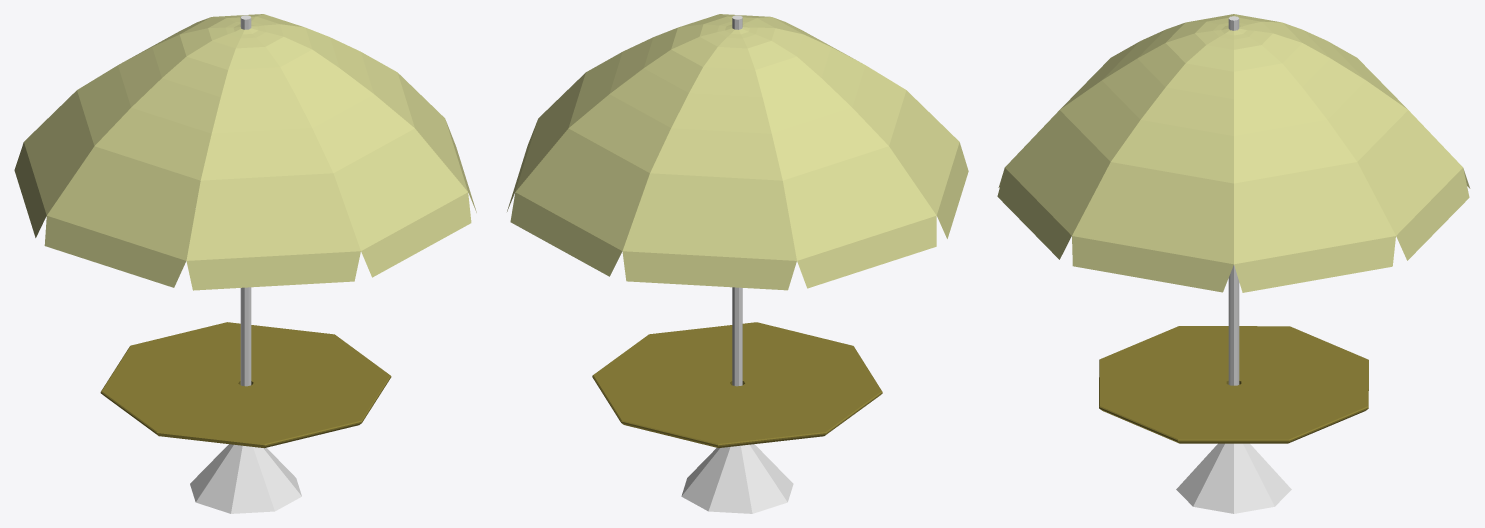
Rendered from UMBRELLA_NEW.fbx.
3 views of the same model, side by side, from view 1: azimuth 30°, elevation 25°; view 2: azimuth 150°, elevation 25°; view 3: azimuth 270°, elevation 25° (orthographic).
Parts seen in each view (by area): view 1: Umbrella.004, TablePlate, table Stand, Pole; view 2: Umbrella.004, TablePlate, table Stand, Pole; view 3: Umbrella.004, TablePlate, table Stand, Pole.
Boxes of the visible parts, box(x1,y1,x2,y2) form: Umbrella.004: box(14, 14, 476, 290); TablePlate: box(100, 322, 391, 448); table Stand: box(190, 444, 301, 513); Pole: box(240, 15, 251, 386); Umbrella.004: box(507, 14, 968, 290); TablePlate: box(592, 322, 882, 447); table Stand: box(681, 444, 793, 513); Pole: box(732, 15, 742, 386); Umbrella.004: box(997, 14, 1470, 292); TablePlate: box(1099, 326, 1368, 443); table Stand: box(1176, 443, 1291, 513); Pole: box(1228, 16, 1239, 385).
Bounding box in the file's own units: 1265 × 1390 × 1265.
